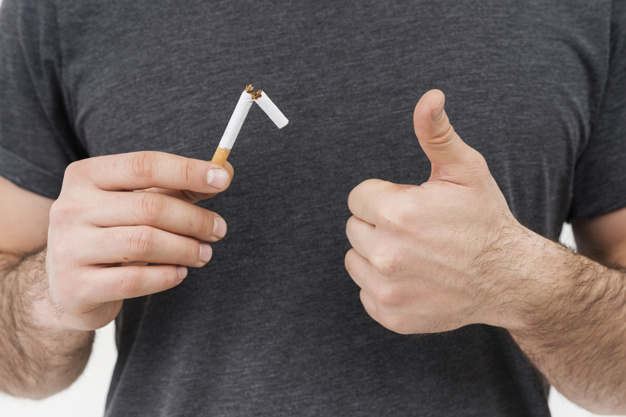thumbsup: (343, 89, 470, 334)
